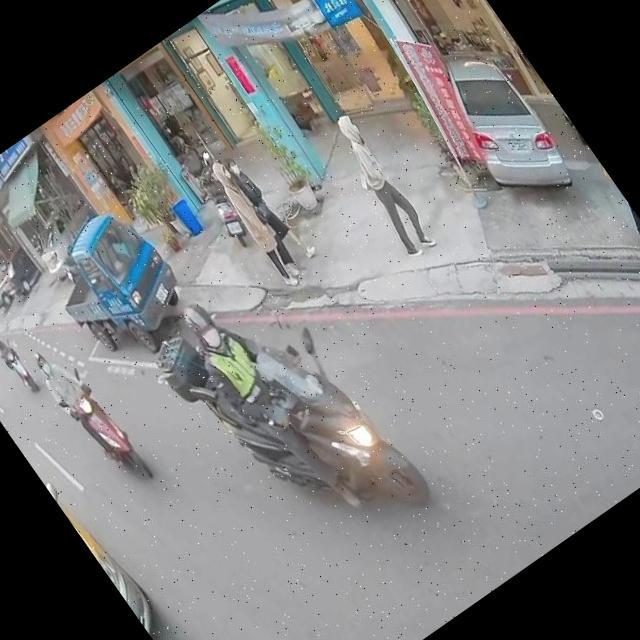person: (160, 244, 416, 540), (24, 332, 150, 486), (319, 108, 443, 264), (208, 142, 322, 278), (202, 152, 309, 288), (578, 145, 640, 252), (0, 325, 36, 388)
